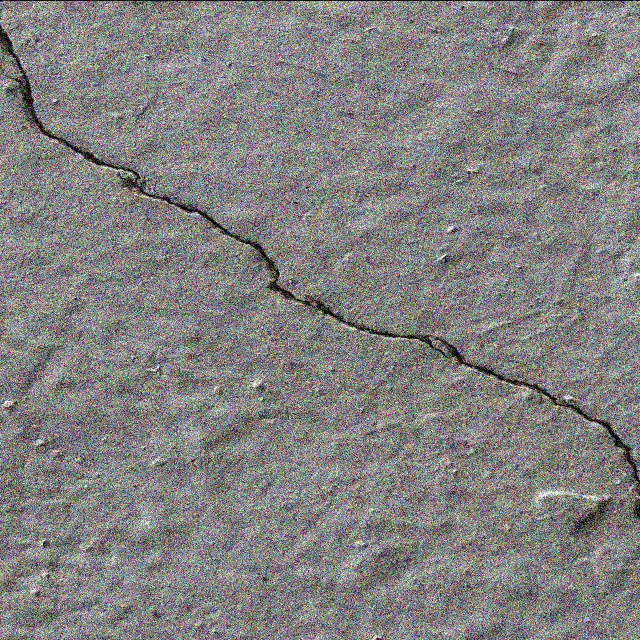SurfaceCrack: (1, 1, 640, 633)
